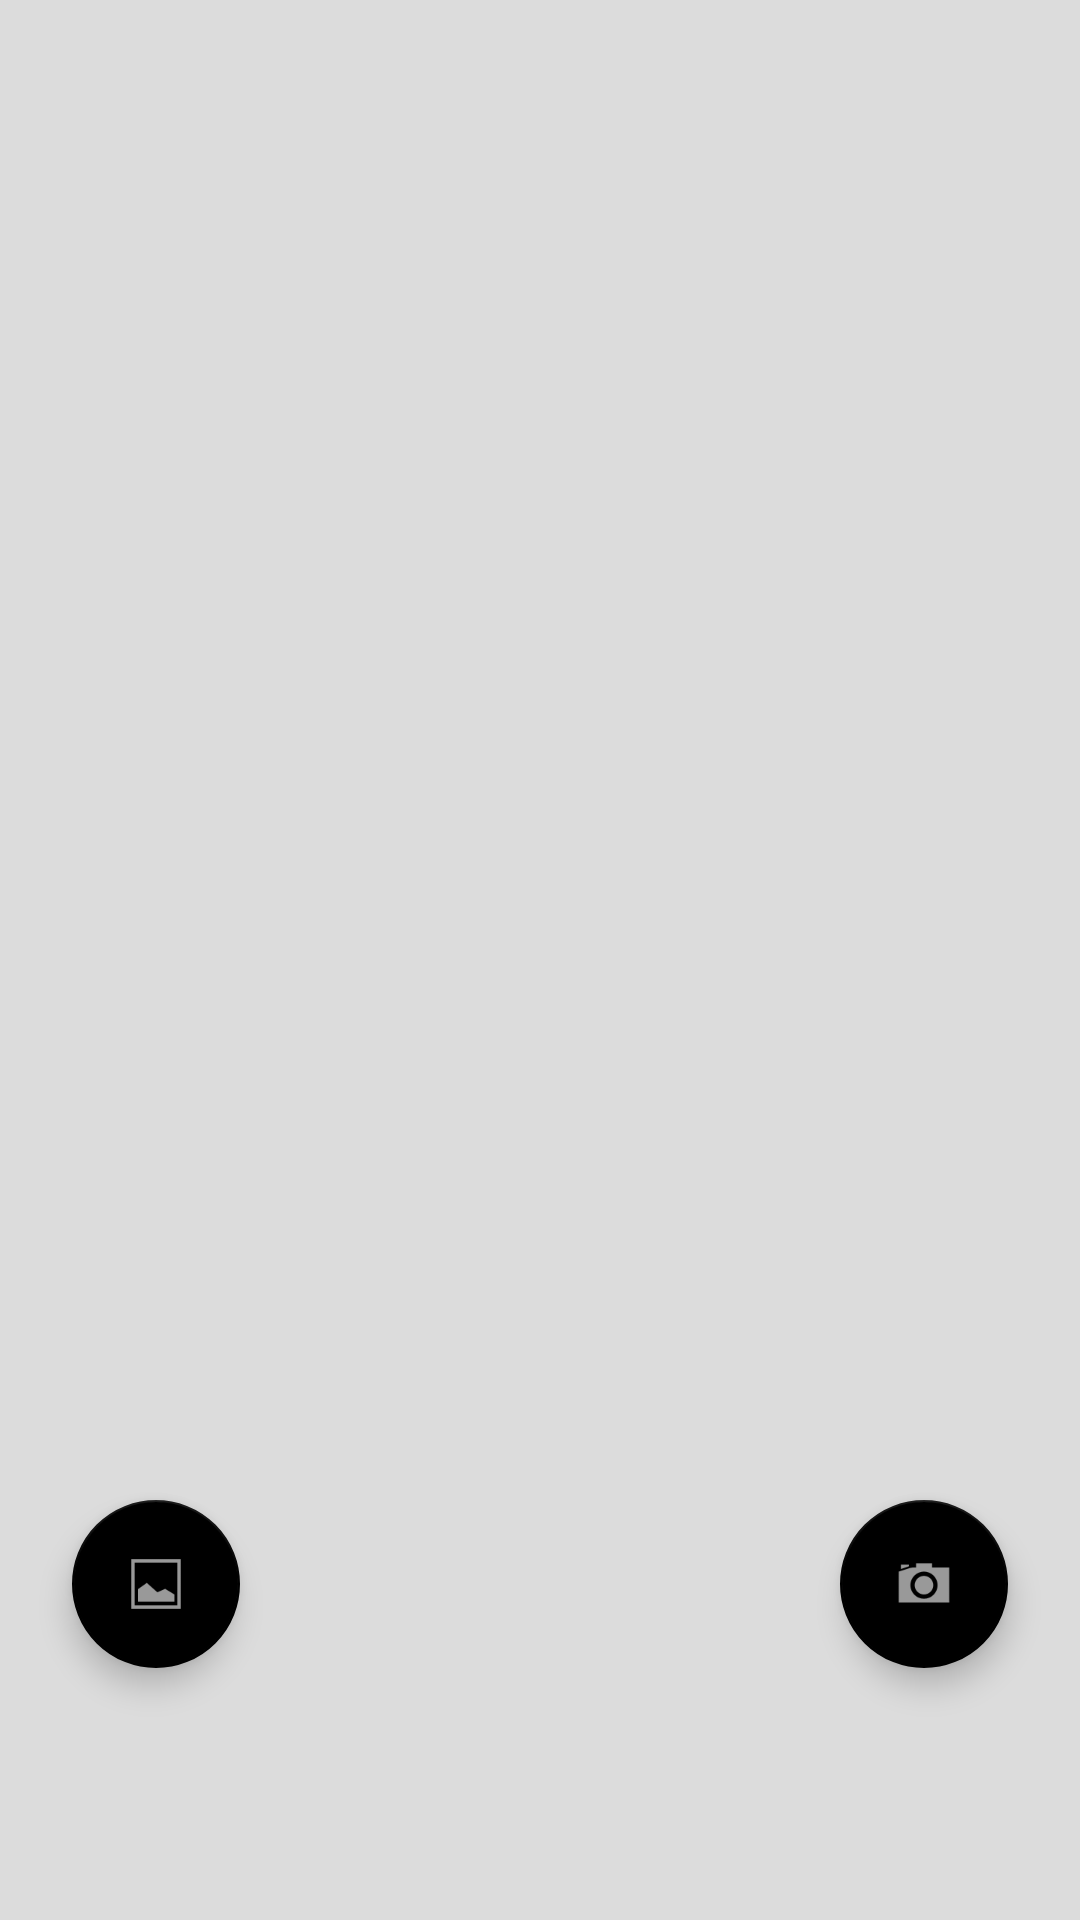

Locate icon controls on the screen. Image size 1080×1920, boxes as (x1, y1, x2, y2).
camera: (840, 1500, 1008, 1668)
gallery: (72, 1500, 240, 1668)
